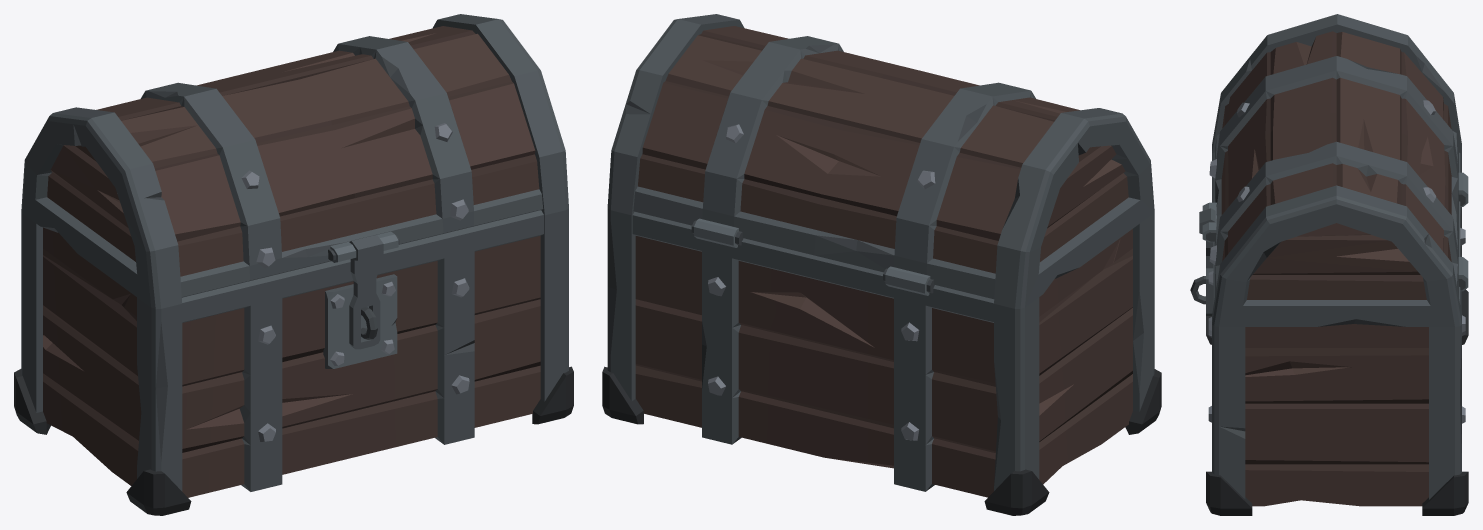
Rendered from Prop_Chest_01.glb.
3 renders of one model, left to right at view 1: azimuth 30°, elevation 25°; view 2: azimuth 150°, elevation 25°; view 3: azimuth 270°, elevation 25°, orthographic. The views are drawn at different scales.
Visible parts, largest first — view 1: SM_Gen_Prop_Chest_01, SM_Gen_Prop_Chest_01_Latch_01; view 2: SM_Gen_Prop_Chest_01; view 3: SM_Gen_Prop_Chest_01, SM_Gen_Prop_Chest_01_Latch_01.
Part boxes in pixels (box(x1,y1,x2,y2)): SM_Gen_Prop_Chest_01: box(14, 14, 573, 515); SM_Gen_Prop_Chest_01_Latch_01: box(349, 235, 383, 349); SM_Gen_Prop_Chest_01: box(602, 14, 1161, 515); SM_Gen_Prop_Chest_01: box(1190, 14, 1468, 515); SM_Gen_Prop_Chest_01_Latch_01: box(1199, 208, 1215, 315).
Size of the model in its own units: 0.9698 by 0.7603 by 0.5972.
3 materials, 3 textured.
